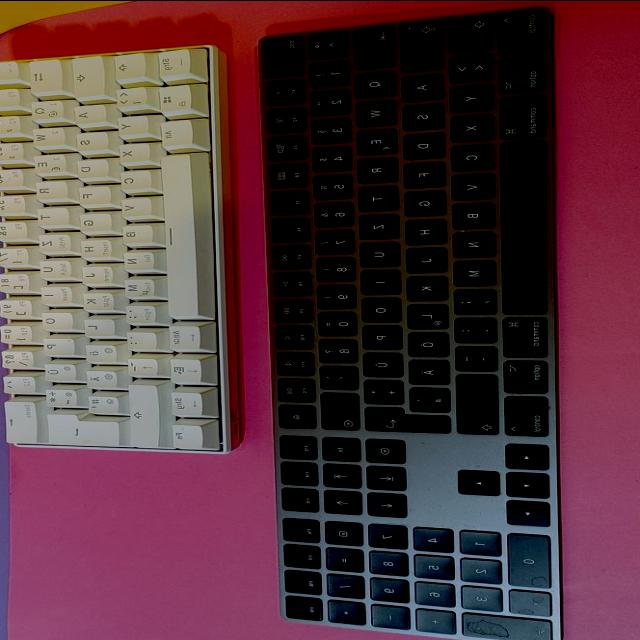0: (313, 309, 353, 334), (0, 321, 33, 342)
1: (304, 58, 346, 85), (0, 85, 18, 106)
2: (306, 87, 346, 114), (0, 114, 20, 134)
3: (307, 116, 347, 142), (0, 140, 24, 160)
4: (307, 144, 347, 170), (0, 167, 26, 188)
5: (309, 172, 349, 198), (0, 193, 25, 214)
6: (309, 200, 349, 226), (0, 219, 30, 241)
7: (310, 227, 350, 252), (0, 244, 28, 266)
8: (312, 254, 352, 280), (0, 270, 32, 292)
9: (312, 281, 352, 307), (0, 296, 33, 318)
a: (396, 71, 440, 99), (70, 102, 104, 122)
accent: (318, 364, 358, 388), (1, 374, 37, 394)
ae: (403, 357, 447, 382), (86, 368, 119, 388)
alt-left: (495, 54, 545, 93), (157, 116, 191, 147)
altgr-right: (499, 357, 546, 392), (168, 323, 200, 349)
b: (447, 200, 491, 227), (118, 222, 151, 243)
c: (445, 142, 491, 169), (116, 167, 150, 191)
caret: (304, 29, 344, 57)
comma: (449, 287, 493, 313), (124, 303, 156, 323)
d: (398, 130, 442, 157), (72, 156, 106, 177)
del: (0, 399, 38, 443), (316, 390, 356, 428)
e: (351, 127, 393, 153), (29, 151, 65, 173)
enter: (42, 410, 120, 444), (361, 406, 449, 432)
f: (398, 159, 442, 185), (74, 183, 108, 203)
g: (399, 188, 441, 214), (75, 210, 109, 231)
h: (399, 217, 443, 243), (76, 236, 112, 258)
hash: (404, 384, 446, 410), (86, 392, 119, 412)
i: (356, 267, 396, 293), (37, 283, 71, 303)
j: (400, 245, 444, 270), (80, 262, 116, 284)
k: (401, 273, 445, 299), (79, 289, 115, 311)
keyboard: (252, 0, 567, 640), (0, 38, 245, 457)
l: (402, 301, 444, 327), (83, 317, 116, 337)
less: (444, 51, 490, 80), (112, 84, 146, 110)
m: (448, 258, 492, 284), (120, 275, 154, 297)
minus: (451, 343, 493, 369), (124, 355, 156, 375)
n: (448, 228, 492, 256), (119, 248, 155, 270)
o: (356, 294, 398, 320), (37, 309, 71, 328)
oe: (403, 329, 445, 355), (84, 342, 117, 362)
p: (358, 322, 398, 347), (39, 335, 72, 353)
plus: (359, 377, 401, 402), (42, 385, 76, 405)
point: (449, 315, 493, 341), (125, 330, 157, 350)
q: (353, 70, 395, 96), (27, 97, 63, 121)
r: (352, 155, 394, 181), (31, 179, 65, 199)
s: (397, 101, 441, 129), (71, 129, 105, 151)
shift-left: (443, 12, 490, 50), (110, 49, 143, 79)
shift-lock: (394, 19, 440, 70), (68, 52, 102, 98)
shift-right: (451, 371, 495, 432), (125, 381, 163, 446)
space: (157, 152, 209, 318), (496, 136, 544, 312)
ss: (317, 337, 357, 361), (0, 347, 34, 367)
strg-left: (493, 6, 543, 54), (152, 44, 207, 82)
strg-right: (502, 394, 549, 437), (170, 390, 202, 416)
t: (353, 183, 395, 209), (33, 204, 66, 224)
tab: (348, 24, 392, 67), (25, 56, 59, 92)
u: (355, 239, 397, 265), (35, 257, 71, 279)
ue: (358, 349, 400, 375), (40, 360, 74, 380)
v: (447, 170, 491, 198), (116, 195, 150, 217)
w: (350, 98, 392, 124), (31, 126, 67, 148)
x: (446, 112, 490, 140), (115, 140, 147, 162)
y: (444, 82, 490, 110), (113, 113, 146, 135)
z: (354, 211, 396, 237), (34, 230, 70, 252)
